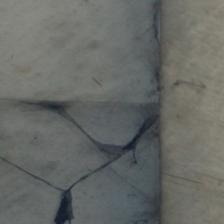Crack: (35, 59, 124, 135), (61, 14, 95, 111), (38, 56, 92, 93)
